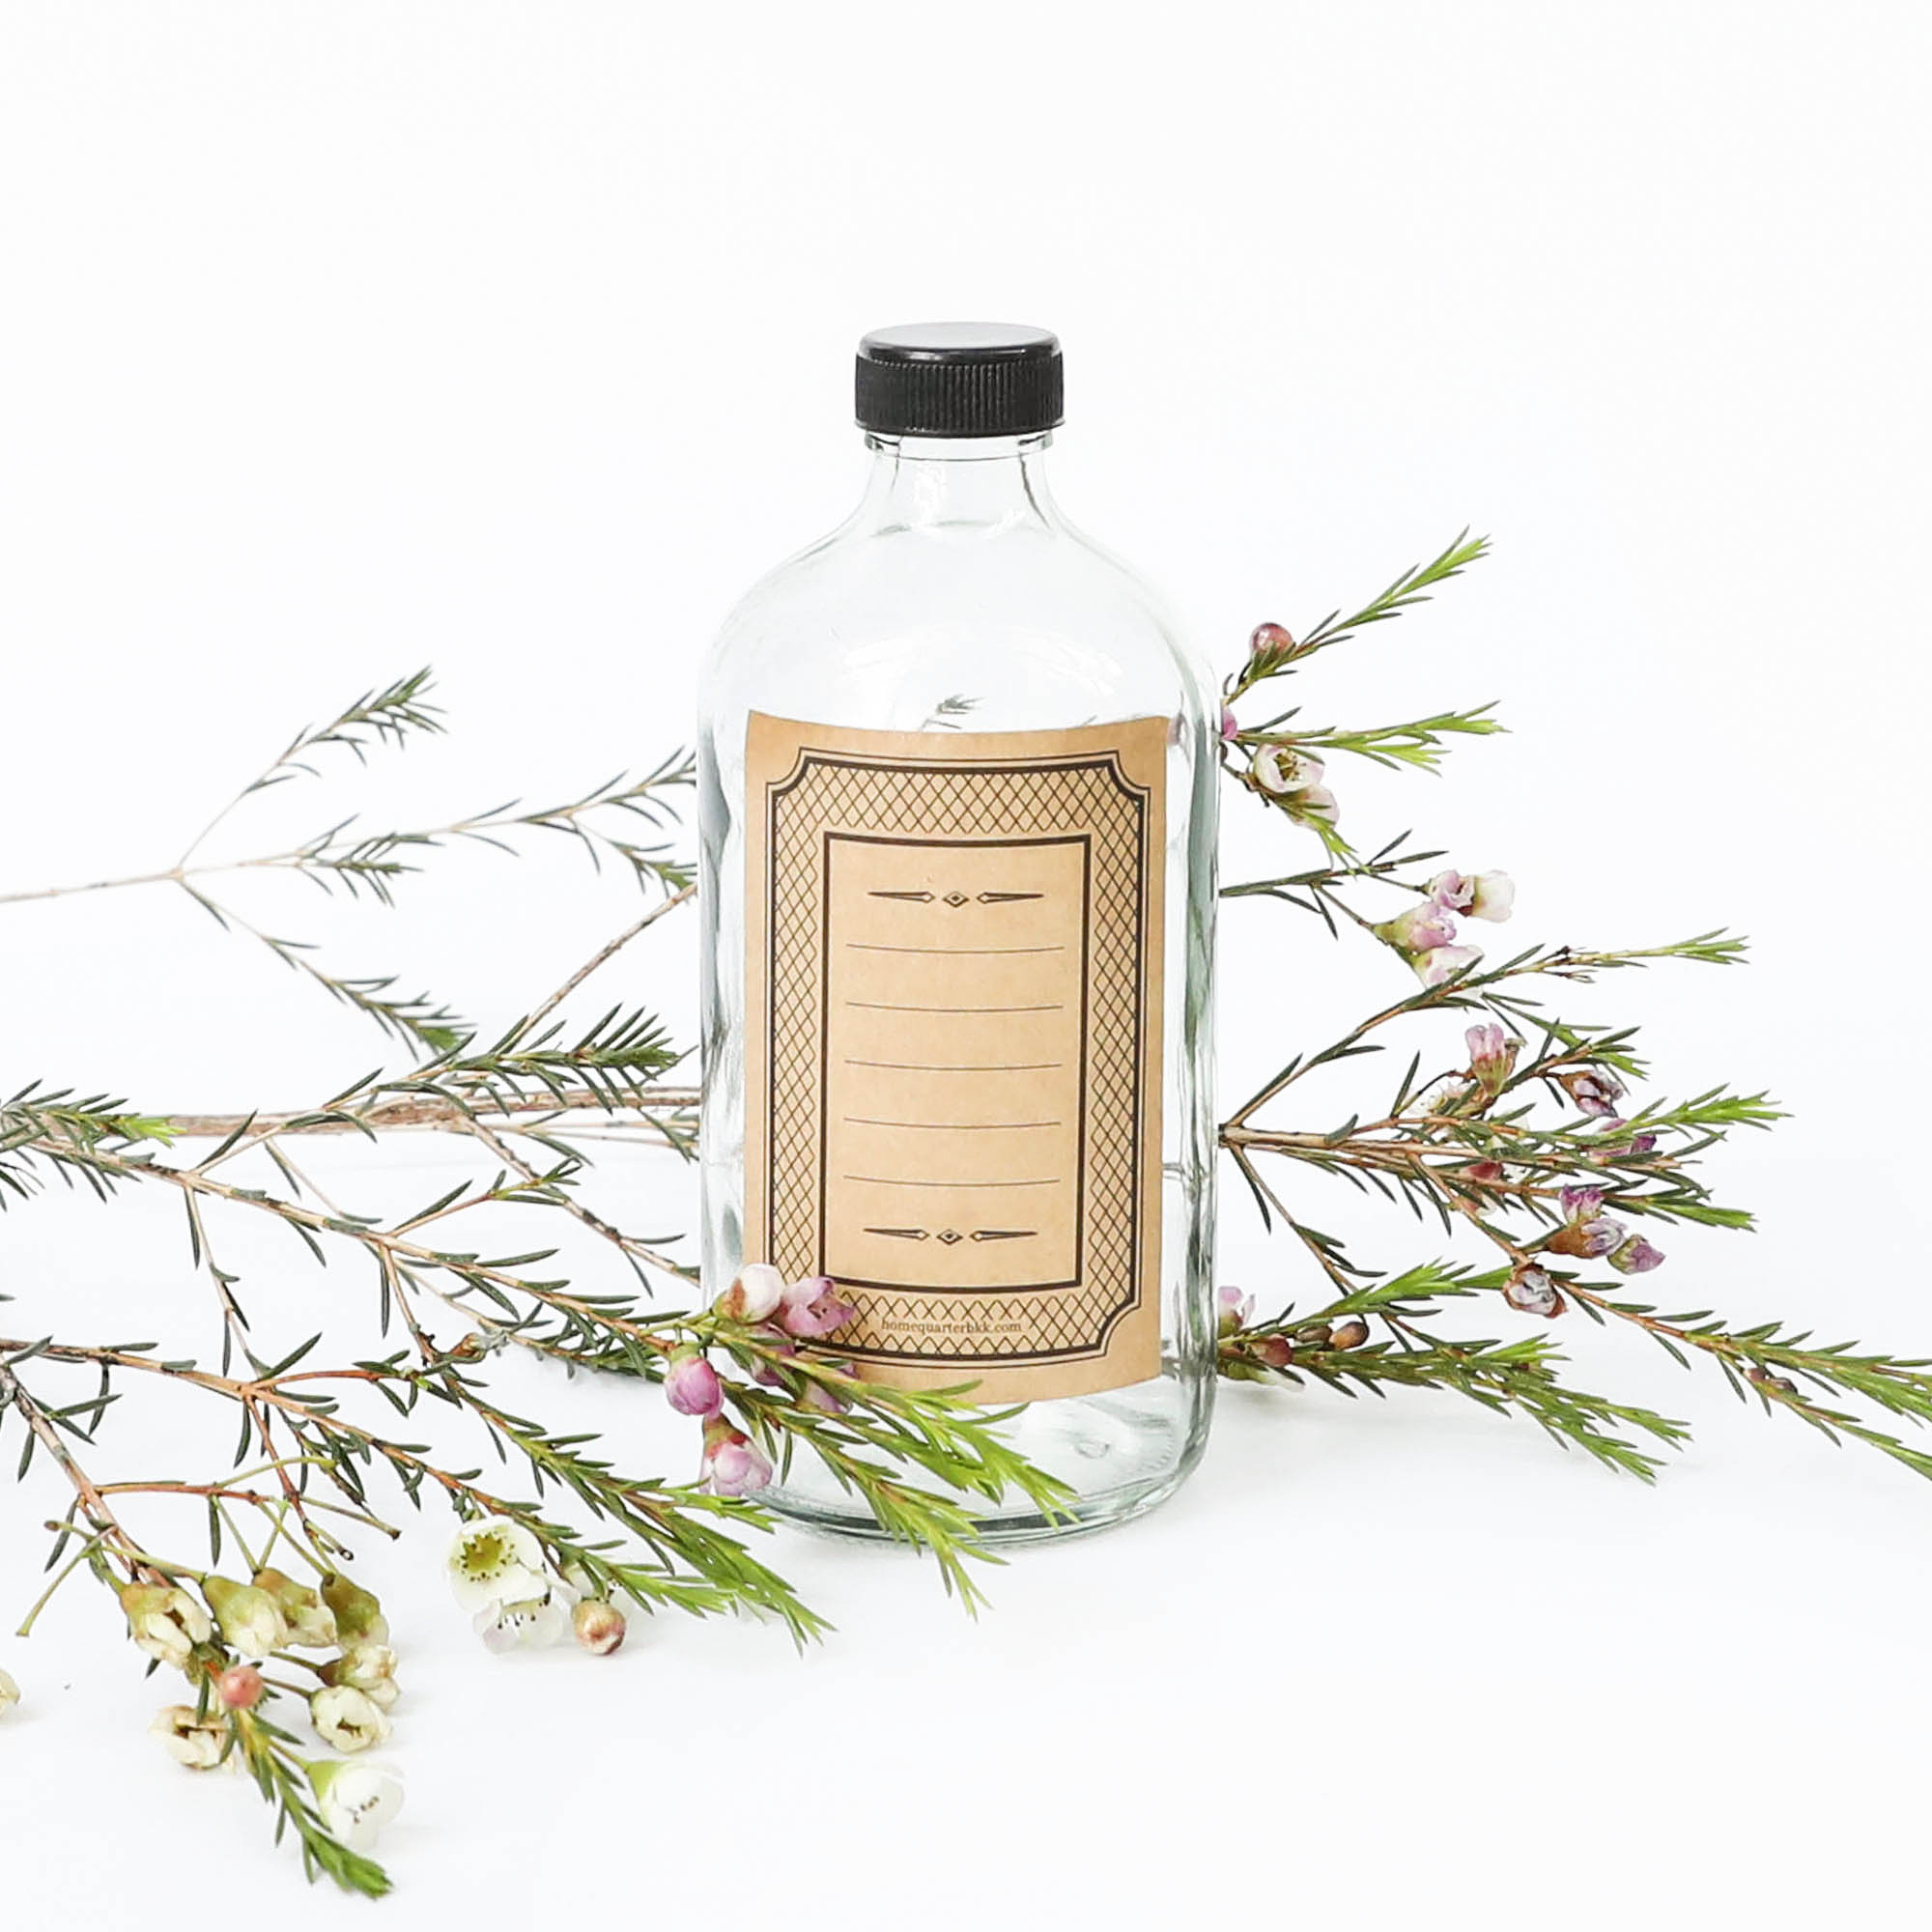glass_bottleww: (586, 271, 1435, 1739)
